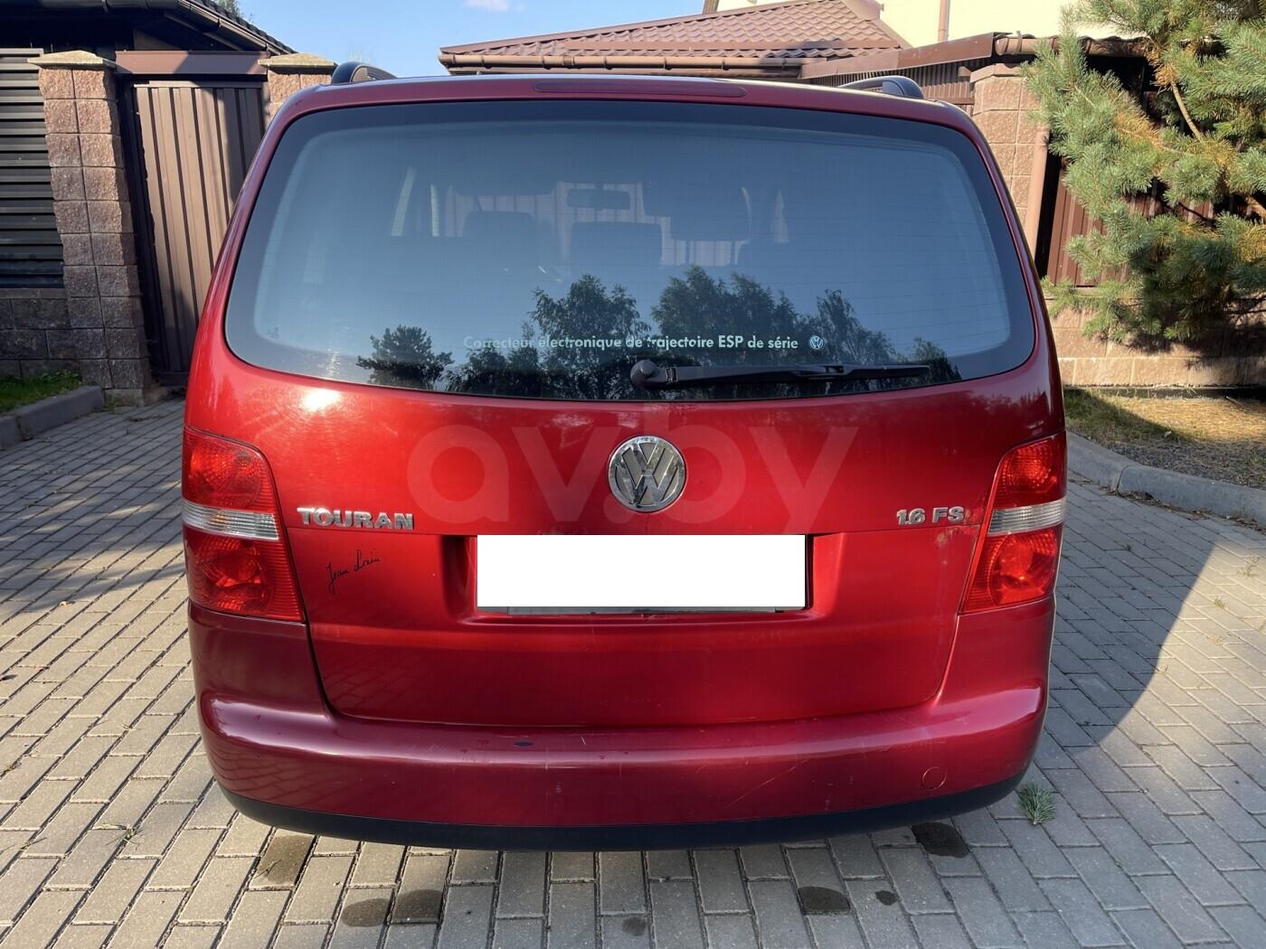Touran_2003-2006: (173, 67, 1067, 825)
